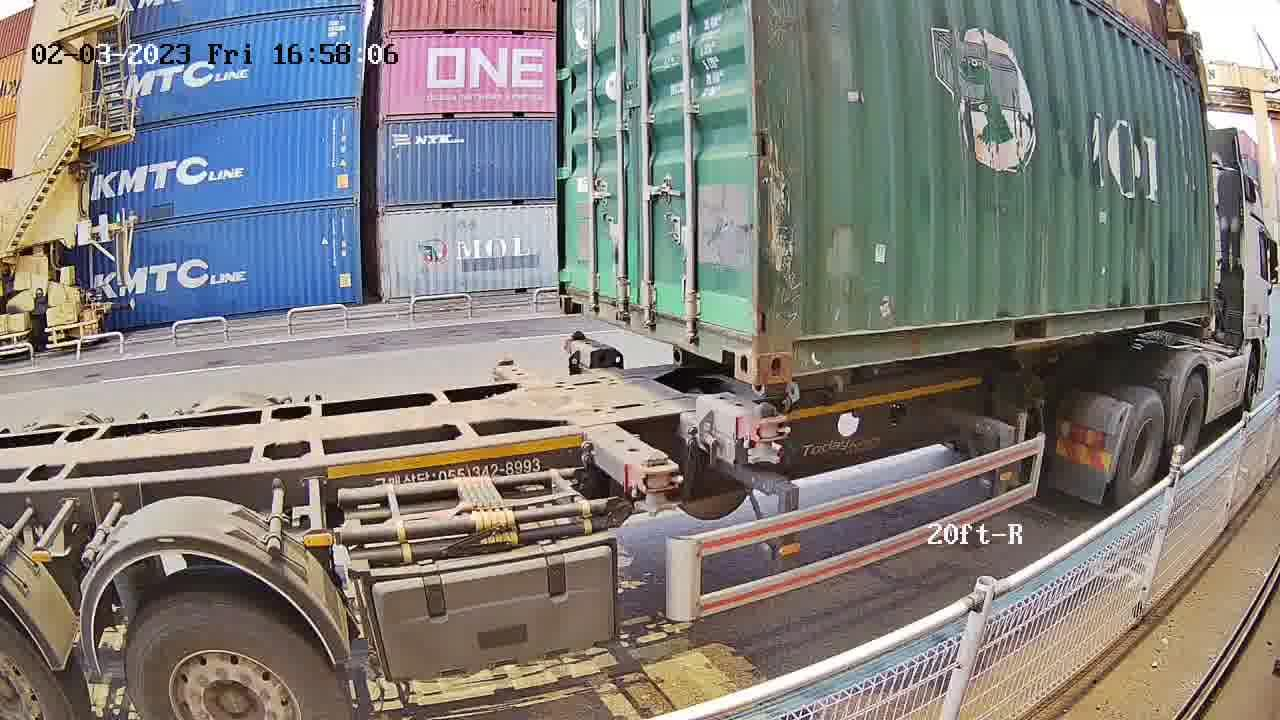Chassis: (564, 336, 780, 434)
Cone: (742, 402, 787, 466), (568, 329, 589, 343)
Hole_L: (757, 308, 830, 385), (558, 271, 592, 319)
Hole_R: (708, 307, 757, 386)
Tire: (1117, 392, 1166, 508), (1172, 375, 1204, 474)
